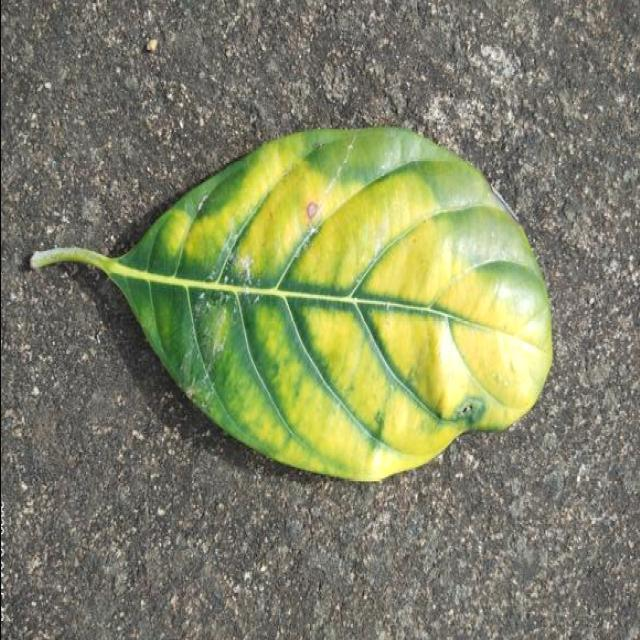leaf: (29, 123, 554, 483)
